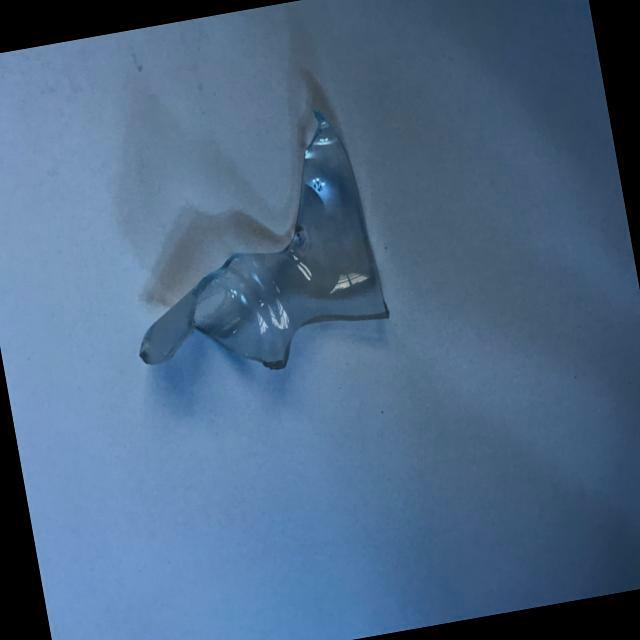glass: (88, 84, 402, 416)
